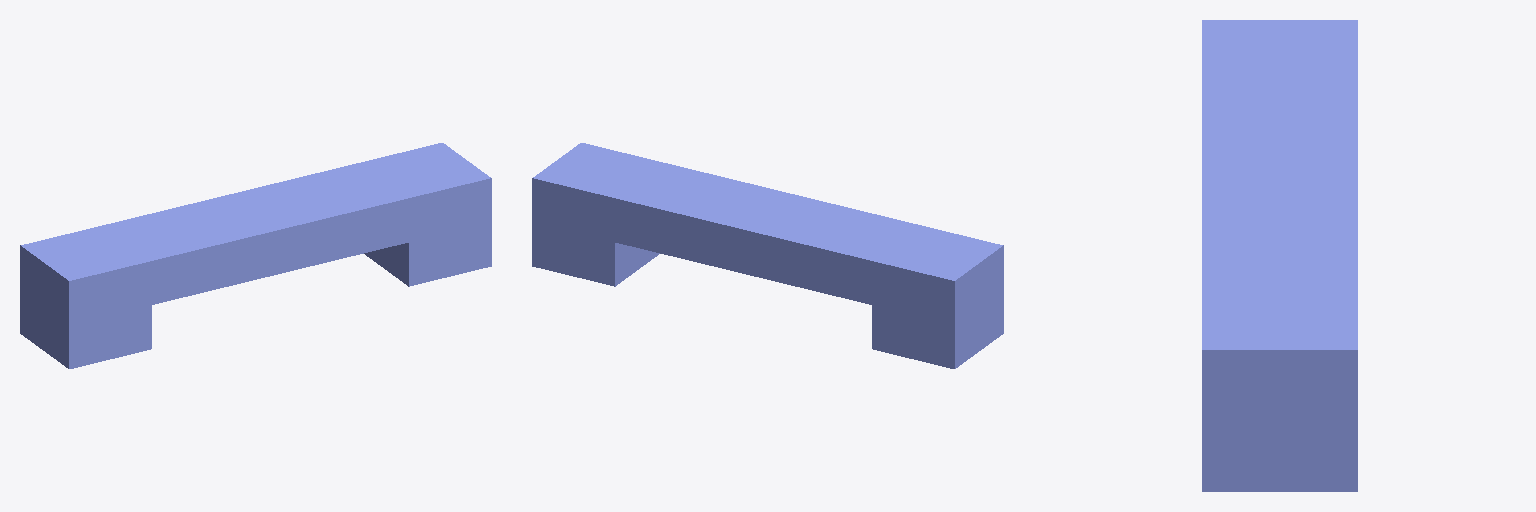
The robot description file, URDF, robot "obj_9":
<robot name="obj_9" version="1.0">
  <link name="obj_9_link">
    <collision name="obj_9_collision_1">
      <origin rpy="3.14159 -0.00000 -1.57080" xyz="0.13204 1.87430 2.63849"/>
      <geometry>
        <mesh filename="../meshes/obj/Cube.026.obj" scale="1.00000 0.98000 1.00000"/>
      </geometry>
    </collision>
    <collision name="obj_9_collision_2">
      <origin rpy="3.14159 -0.00000 -1.57080" xyz="-2.88312 1.87473 2.63849"/>
      <geometry>
        <mesh filename="../meshes/obj/Cube.027.obj" scale="1.00000 0.98000 1.00000"/>
      </geometry>
    </collision>
    <collision name="obj_9_collision_3">
      <origin rpy="3.14159 -0.00000 -1.57080" xyz="-1.37420 1.87409 2.82609"/>
      <geometry>
        <mesh filename="../meshes/obj/Cube.028.obj" scale="2.00000 6.08000 1.00000"/>
      </geometry>
    </collision>
    <inertial>
      <inertia ixx="6.65506" ixy="0.00000" ixz="0.00000" iyy="0.48424" iyz="-0.00000" izz="6.58954"/>
      <origin rpy="0.00000 0.00000 0.00000" xyz="-1.37550 1.87500 2.72100"/>
      <mass value="5.00000"/>
    </inertial>
    <visual name="obj_9">
      <material name="turnaxis"/>
      <origin rpy="3.14159 -0.00000 -1.57080" xyz="-1.37550 1.87500 2.72100"/>
      <geometry>
        <mesh filename="../meshes/obj/luban-lock-sliding.008.obj" scale="0.05000 0.05000 0.05000"/>
      </geometry>
    </visual>
  </link>
  <material name="turnaxis">
    <color rgba="0.63922 0.70196 1.00000 1.00000"/>
  </material>
</robot>

--- Render facts (derived) ---
Views: 3 orthographic renders of the robot side by side, from view 1: azimuth 30°, elevation 25°; view 2: azimuth 150°, elevation 25°; view 3: azimuth 270°, elevation 25°.
Model obj_9 with 1 links and 0 joints (none), rooted at obj_9_link, posed all joints at 0.
Links seen in each view (by area): view 1: obj_9_link; view 2: obj_9_link; view 3: obj_9_link.
Link boxes in pixels (x1,y1,x2,y2): obj_9_link: [20, 143, 491, 368]; obj_9_link: [532, 143, 1003, 368]; obj_9_link: [1202, 20, 1357, 491].
Size in the robot's own frame: 3.75 by 0.75 by 0.75 metres.
Meshes: 1 distinct files referenced, 1 mesh visuals loaded (1 OBJ).